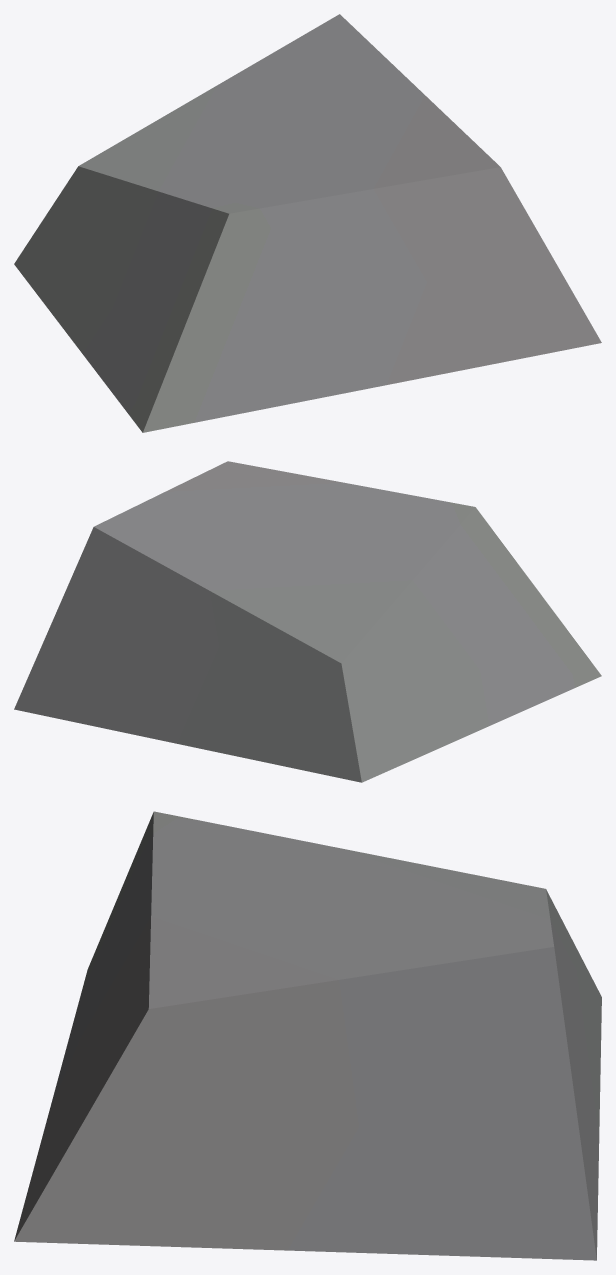
Rendered from stone_2.glb.
The picture shows the model from 3 angles, top to bottom: view 1: azimuth 30°, elevation 25°; view 2: azimuth 150°, elevation 25°; view 3: azimuth 270°, elevation 25°; orthographic projection. The views are drawn at different scales.
Visible parts, largest first — view 1: Cone.001; view 2: Cone.001; view 3: Cone.001.
Boxes of the visible parts, box(x1,y1,x2,y2) form: Cone.001: box(14, 14, 601, 432); Cone.001: box(14, 461, 601, 782); Cone.001: box(14, 811, 601, 1260).
Size of the model in its own units: 1.04 by 0.4524 by 0.8979.
Materials: 1 (1 with a texture image).
